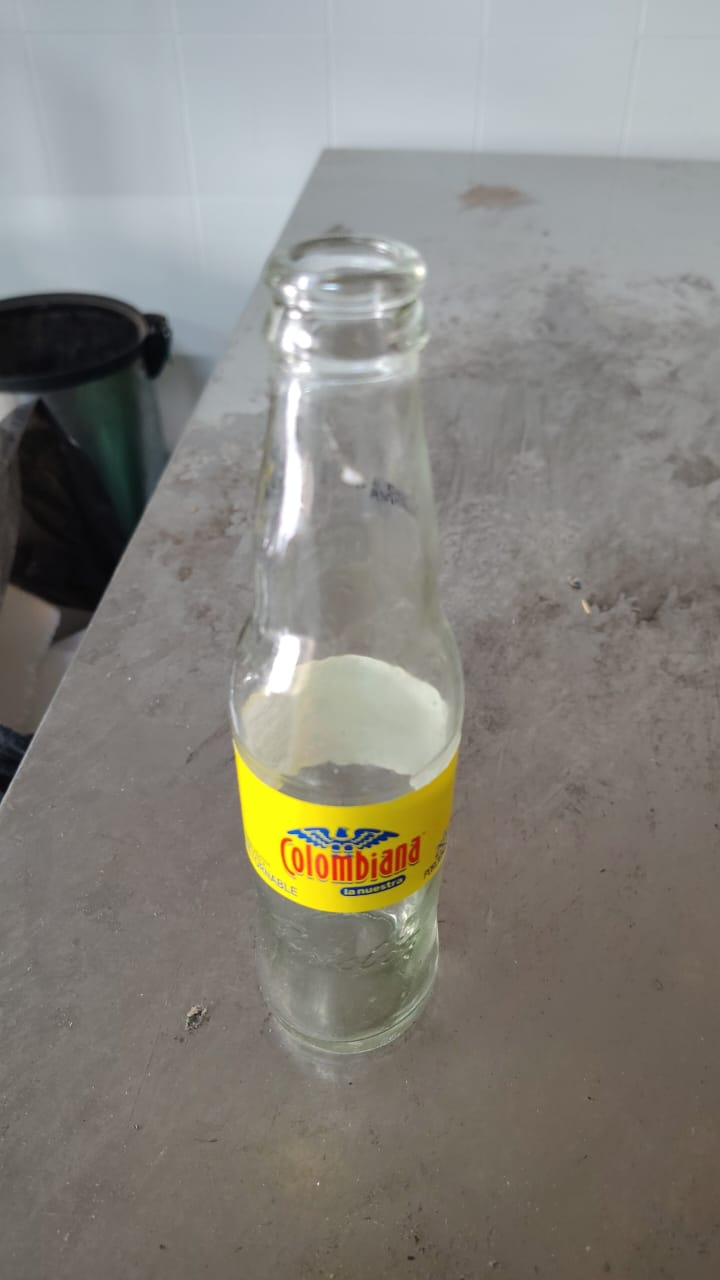Vidrio: (229, 230, 466, 1053)
